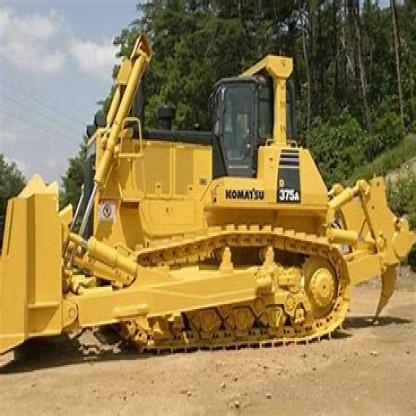bull_dozer/loader/grader: (0, 25, 415, 367)
